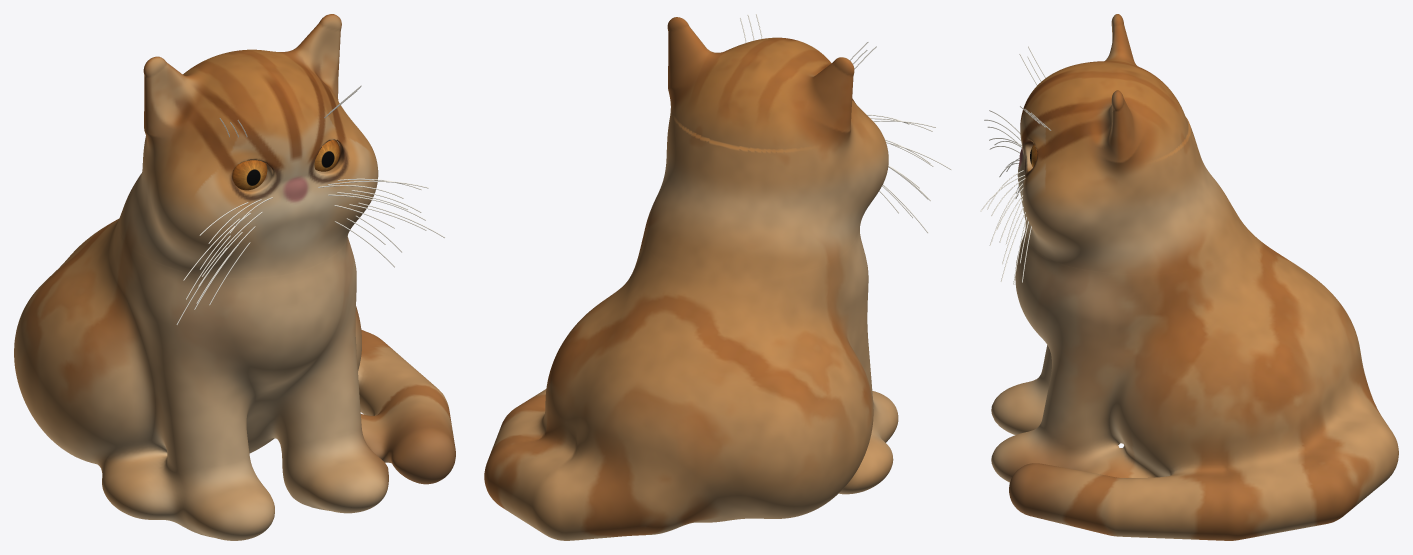
Rendered from artu-persiano.glb.
The picture shows the model from 3 angles, left to right: view 1: azimuth 30°, elevation 25°; view 2: azimuth 150°, elevation 25°; view 3: azimuth 270°, elevation 25°; orthographic projection. The views are drawn at different scales.
Visible parts, largest first — view 1: corpo, testa, baffi, occhio destro, occhio sinistro; view 2: corpo, testa, baffi; view 3: corpo, testa, baffi.
Part boxes in pixels (bbox=[...]): corpo: bbox=[14, 218, 455, 540]; testa: bbox=[118, 14, 378, 278]; baffi: bbox=[176, 85, 445, 324]; occhio destro: bbox=[232, 160, 267, 190]; occhio sinistro: bbox=[314, 140, 339, 171]; corpo: bbox=[484, 229, 898, 540]; testa: bbox=[644, 17, 888, 279]; baffi: bbox=[740, 14, 951, 233]; corpo: bbox=[991, 224, 1398, 540]; testa: bbox=[1017, 14, 1245, 274]; baffi: bbox=[980, 46, 1051, 284].
Bounding box in the file's own units: 0.236 × 0.2823 × 0.2637.
3 materials, 1 textured.
